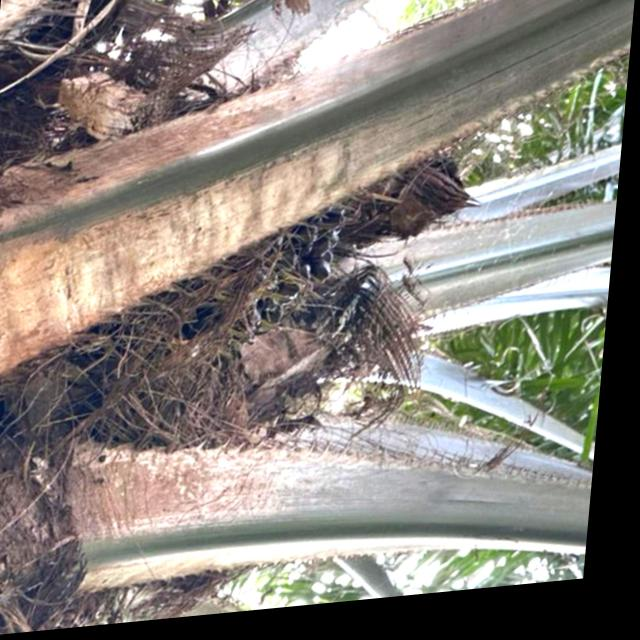unripe: (0, 175, 399, 444)
